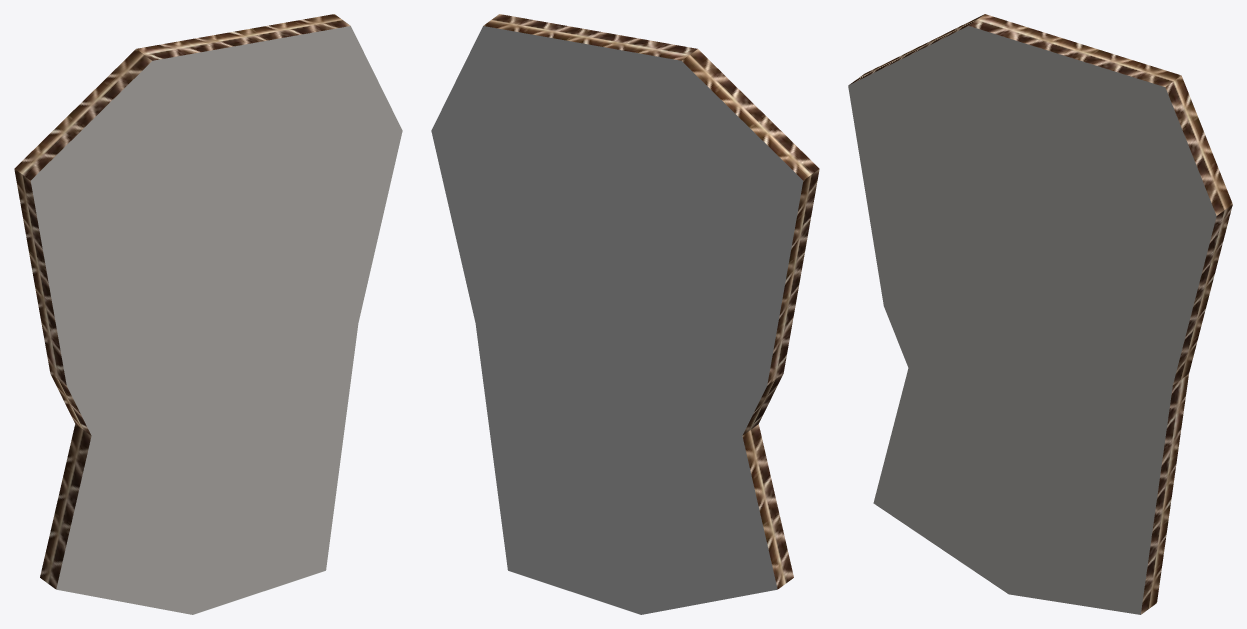
File: emu.obj
The picture shows the model from 3 angles, left to right: view 1: azimuth 30°, elevation 25°; view 2: azimuth 150°, elevation 25°; view 3: azimuth 330°, elevation 25°; orthographic projection.
Parts seen in each view (by area): view 1: Solid1; view 2: Solid1; view 3: Solid1.
Boxes of the visible parts, bbox=[...] form: Solid1: bbox=[14, 14, 402, 614]; Solid1: bbox=[431, 14, 819, 614]; Solid1: bbox=[848, 14, 1232, 614].
Bounding box in the file's own units: 1.58 × 2.28 × 0.12.
